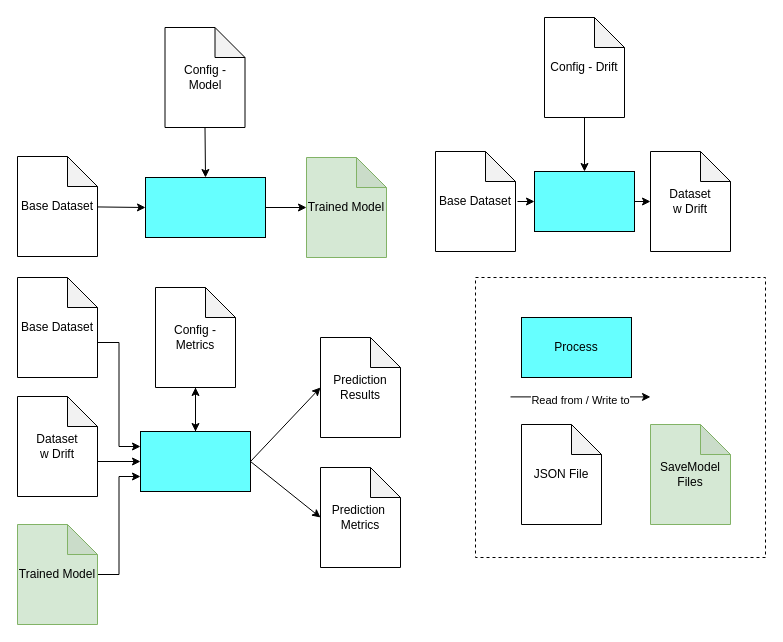
Some shapes in this 783 by 642 pixel diagram are drawn without their labels. The shapes that lost their labels are listed below. From the top down, each one's box as (x1, y1, x2, y2) in pixels, then its label:
(144, 176, 266, 238): Trainer
(534, 170, 634, 232): Drifter
(474, 276, 766, 558): Legend
(140, 430, 250, 492): Predictor
